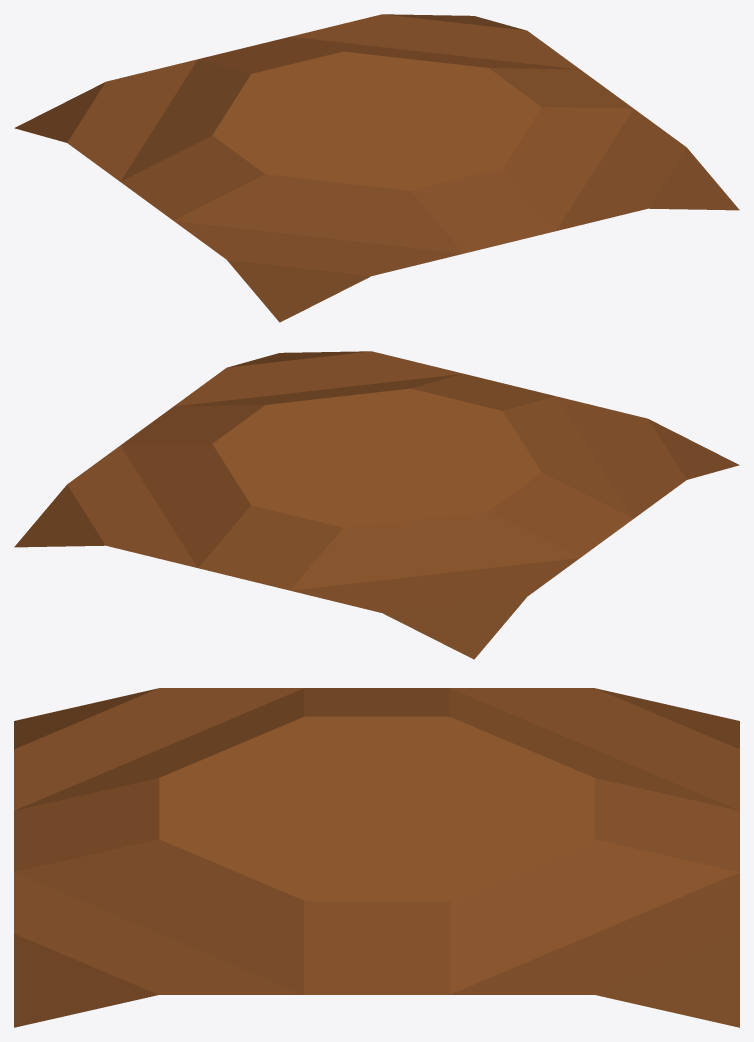
File: dirt_tile.dae
The picture shows the model from 3 angles, top to bottom: view 1: azimuth 30°, elevation 25°; view 2: azimuth 150°, elevation 25°; view 3: azimuth 270°, elevation 25°; orthographic projection. The views are drawn at different scales.
Visible parts, largest first — view 1: dirt_tile; view 2: dirt_tile; view 3: dirt_tile.
Boxes of the visible parts, left/top/right/bottom form: dirt_tile: left=14, top=14, right=739, bottom=322; dirt_tile: left=14, top=351, right=739, bottom=659; dirt_tile: left=14, top=688, right=739, bottom=1027.
Size of the model in its own units: 1 by 1 by 0.1.
